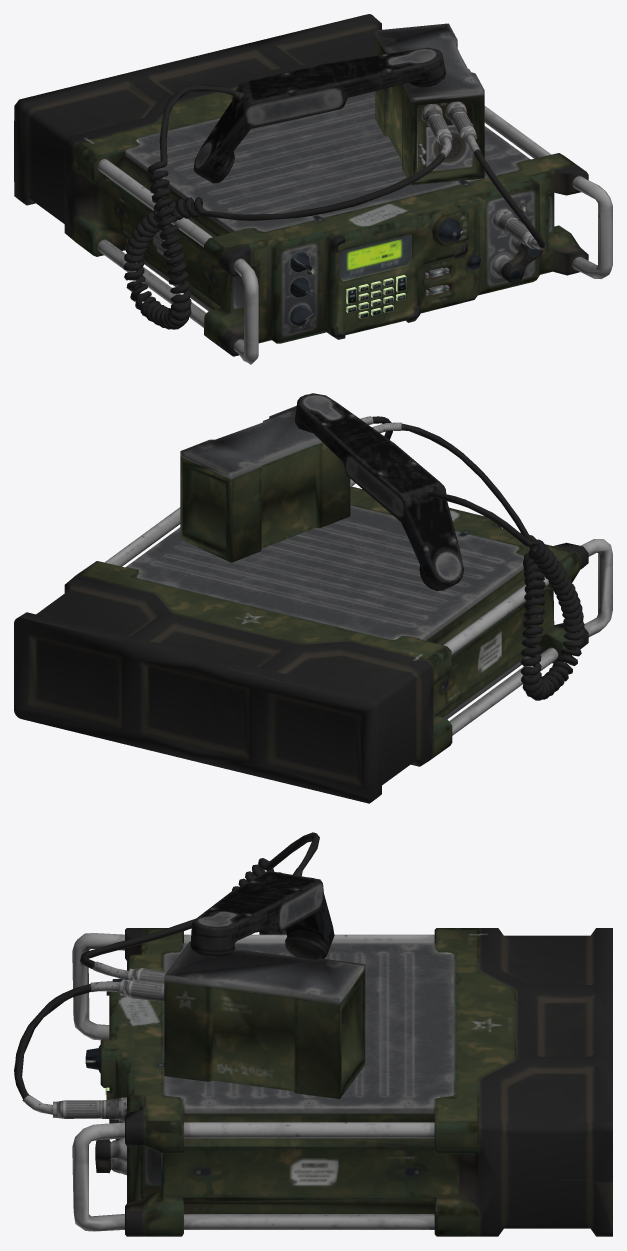
The model's file is radio.glb.
3 views of the same model, one above another, from view 1: azimuth 30°, elevation 25°; view 2: azimuth 150°, elevation 25°; view 3: azimuth 270°, elevation 25° (orthographic). The views are drawn at different scales.
Parts seen in each view (by area): view 1: m; view 2: m; view 3: m.
Part boxes in pixels (x1,y1,x2,y2): m: [14, 14, 612, 364]; m: [14, 393, 612, 803]; m: [14, 832, 612, 1236].
Bounding box in the file's own units: 0.4194 × 0.2271 × 0.4904.
1 material, 1 textured.
